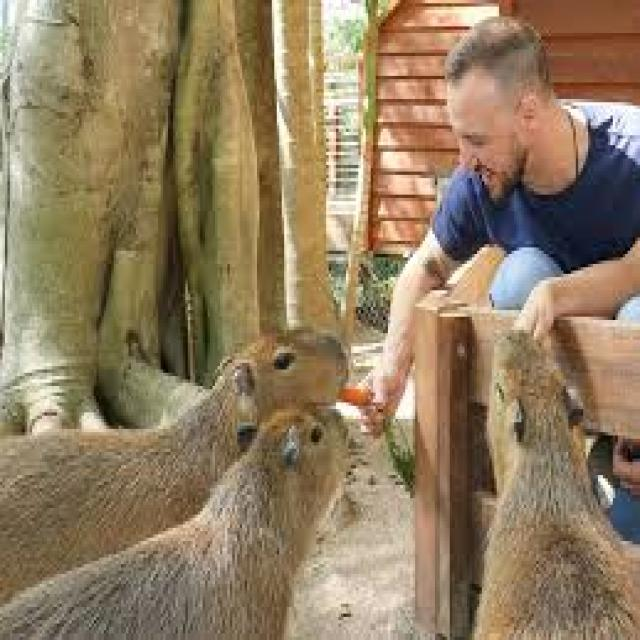capy: (0, 324, 345, 578), (0, 396, 343, 640), (472, 330, 640, 640)
